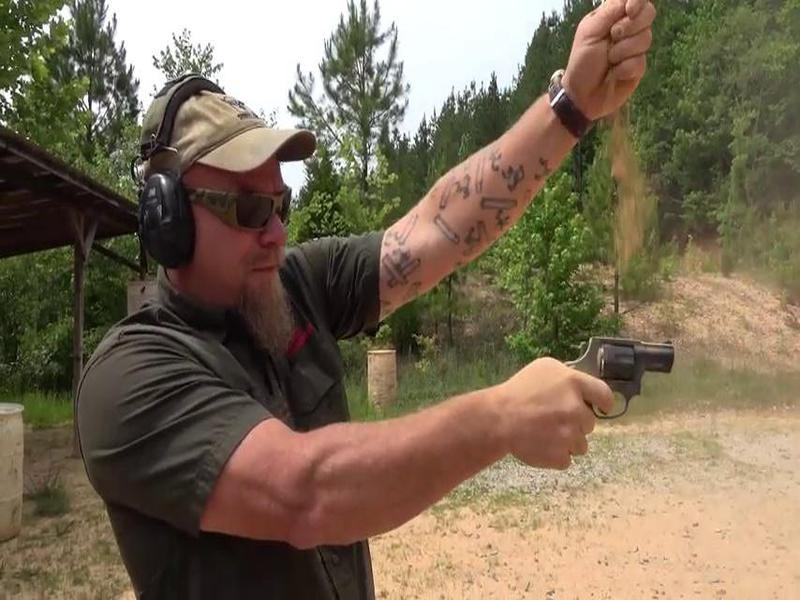Revolver: (543, 324, 687, 428)
